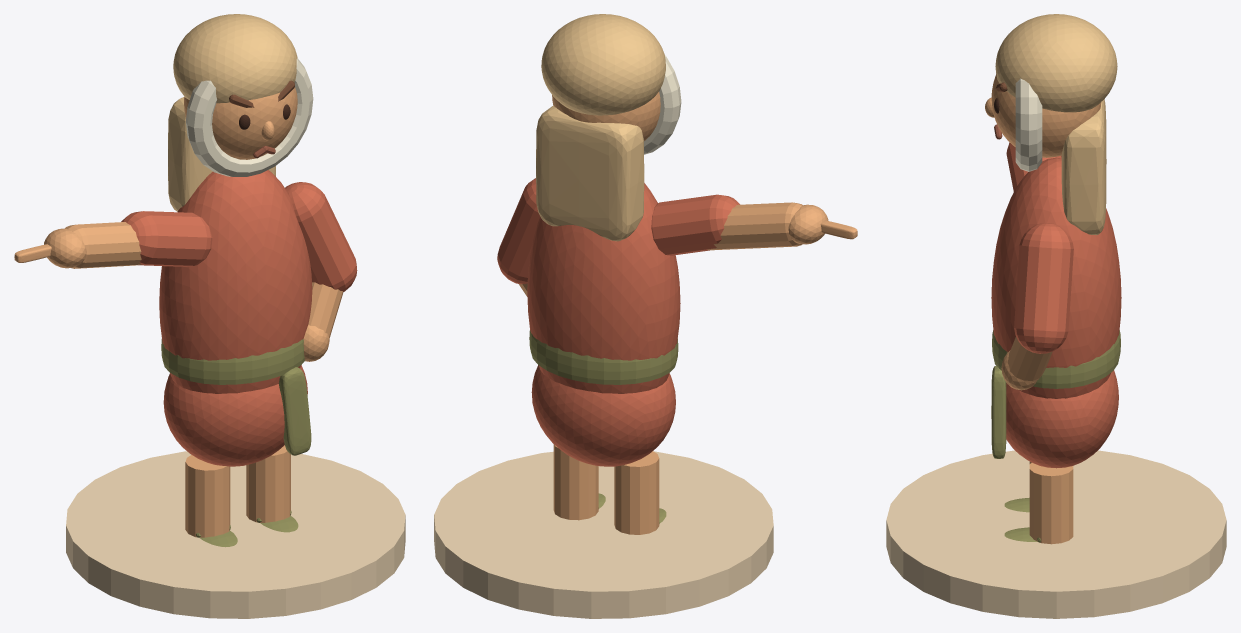
The model's file is arg_villager_a.glb.
The picture shows the model from 3 angles, left to right: view 1: azimuth 30°, elevation 25°; view 2: azimuth 150°, elevation 25°; view 3: azimuth 270°, elevation 25°; orthographic projection.
Visible parts, largest first — view 1: Base, Tunic, Hood_Top, Skirt, Hood_Frame, Sleeve_Hip, Sleeve_Point, Head, Belt, Leg_R, Leg_L, Hood_Drape (+5 smaller); view 2: Base, Tunic, Hood_Drape, Hood_Top, Skirt, Sleeve_Point, Belt, Leg_R, Arm_Point, Leg_L, Sleeve_Hip, Hood_Frame (+2 smaller); view 3: Base, Tunic, Hood_Top, Skirt, Sleeve_Hip, Hood_Drape, Leg_L, Head, Hood_Frame, Belt, Belt_Tail, Arm_Hip (+1 smaller).
Boxes of the visible parts, x1,y1,x2,y2 form: Base: [66, 451, 405, 618]; Tunic: [159, 170, 312, 393]; Hood_Top: [173, 14, 297, 103]; Skirt: [163, 365, 307, 466]; Hood_Frame: [185, 58, 313, 176]; Sleeve_Hip: [285, 182, 357, 291]; Sleeve_Point: [121, 211, 212, 266]; Head: [184, 87, 297, 159]; Belt: [161, 339, 304, 384]; Leg_R: [185, 455, 230, 537]; Leg_L: [246, 445, 290, 522]; Hood_Drape: [168, 97, 275, 211]; Base: [434, 451, 773, 618]; Tunic: [527, 183, 680, 393]; Hood_Drape: [536, 105, 644, 241]; Hood_Top: [541, 14, 665, 115]; Skirt: [531, 365, 675, 466]; Sleeve_Point: [651, 194, 739, 255]; Belt: [529, 330, 678, 384]; Leg_R: [614, 451, 659, 534]; Arm_Point: [707, 202, 802, 250]; Leg_L: [553, 444, 598, 520]; Sleeve_Hip: [497, 178, 540, 284]; Hood_Frame: [644, 55, 681, 154]; Base: [886, 450, 1226, 618]; Tunic: [991, 157, 1121, 398]; Hood_Top: [995, 14, 1117, 112]; Skirt: [1006, 370, 1118, 468]; Sleeve_Hip: [1014, 223, 1073, 353]; Hood_Drape: [1061, 99, 1106, 235]; Leg_L: [1029, 463, 1073, 544]; Head: [991, 74, 1101, 157]; Hood_Frame: [1015, 78, 1042, 171]; Belt: [992, 330, 1120, 388]; Belt_Tail: [991, 366, 1006, 458]; Arm_Hip: [1007, 337, 1052, 382].
Size of the model in its own units: 1.3 by 1.7 by 0.9966.
